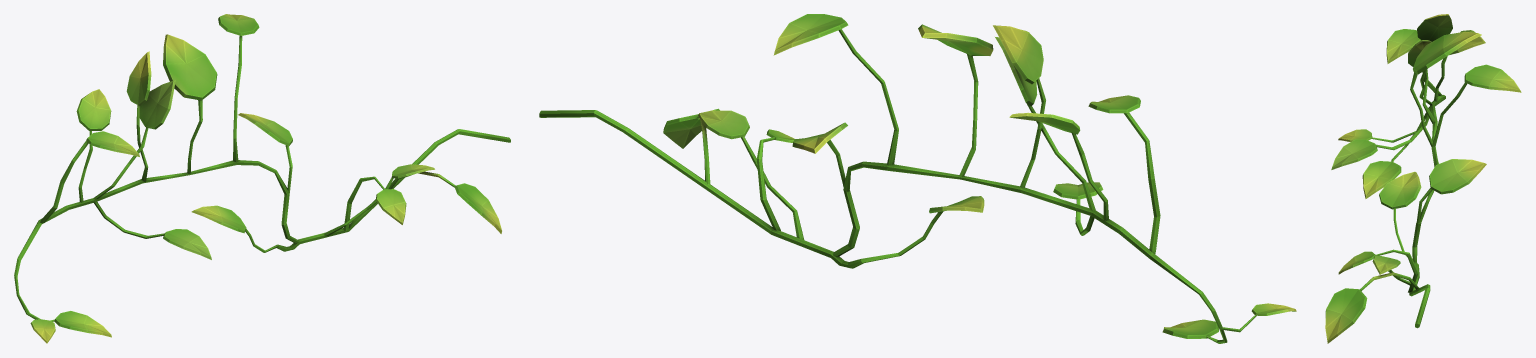
The model's file is Vines.obj.
3 renders of one model, left to right at view 1: azimuth 30°, elevation 25°; view 2: azimuth 150°, elevation 25°; view 3: azimuth 270°, elevation 25°, orthographic. The views are drawn at different scales.
Visible parts, largest first — view 1: Vines_mesh; view 2: Vines_mesh; view 3: Vines_mesh.
Boxes of the visible parts, <box> form: Vines_mesh: <box>14,14,510,343</box>; Vines_mesh: <box>539,14,1296,343</box>; Vines_mesh: <box>1325,14,1521,343</box>.
Size of the model in its own units: 13.72 by 6.04 by 4.84.
Materials: 1 (1 with a texture image).
